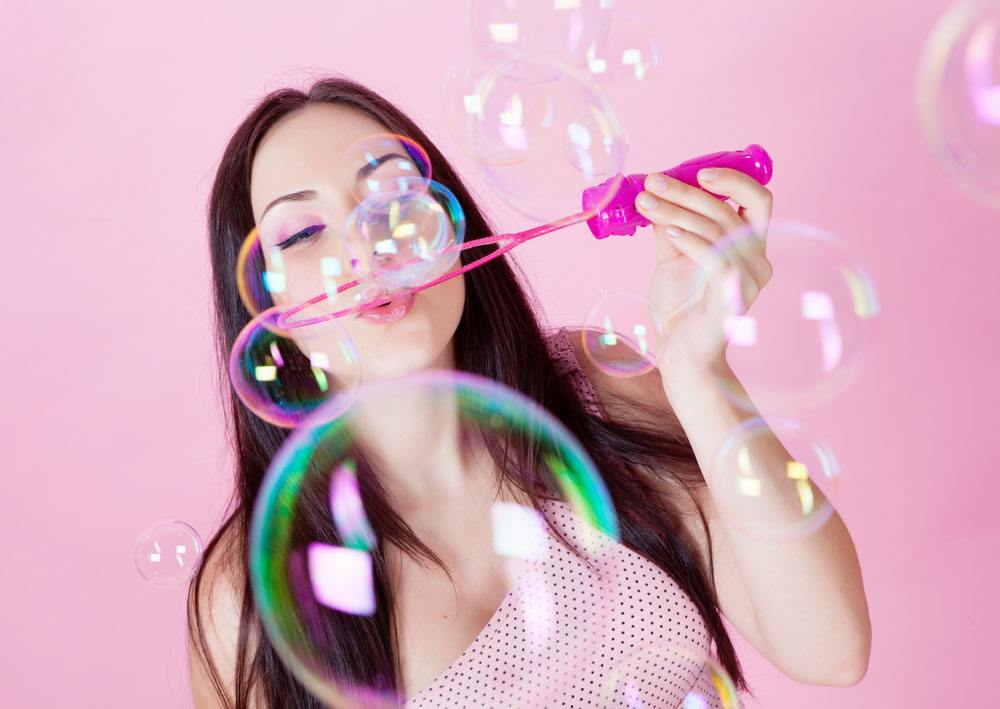person: (183, 81, 709, 657)
